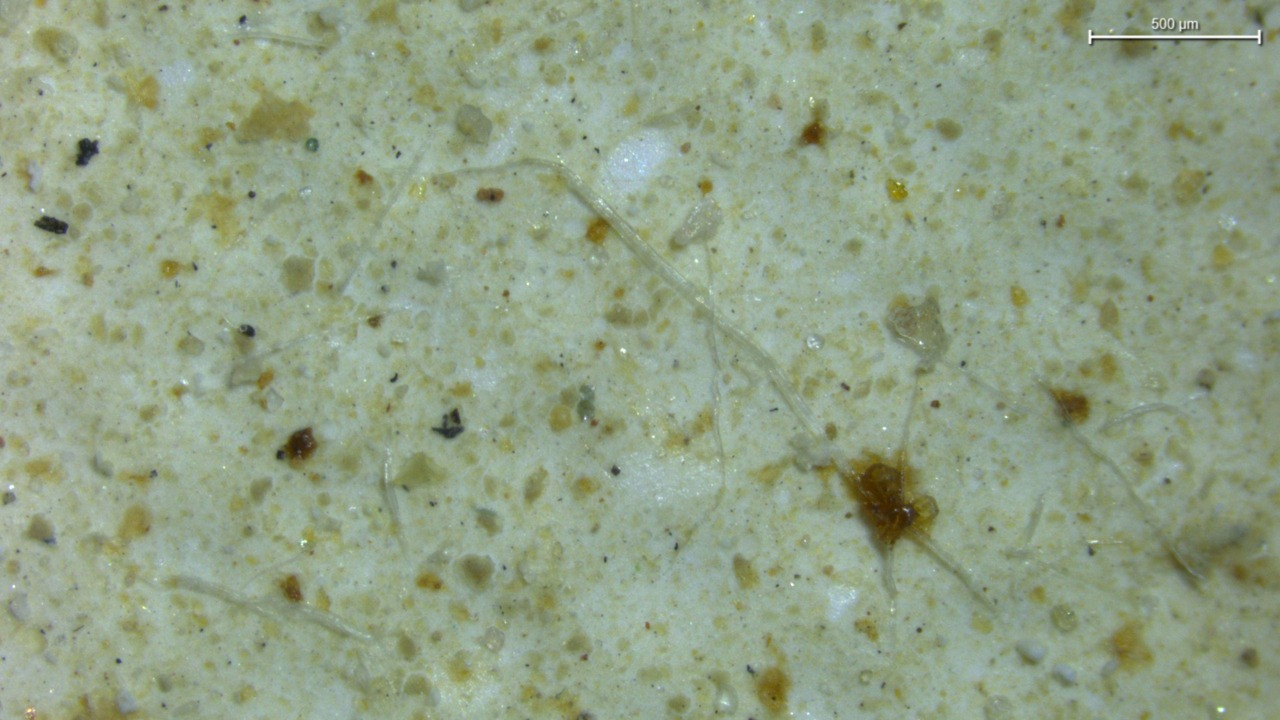microplastic_fragment: (672, 199, 723, 247)
